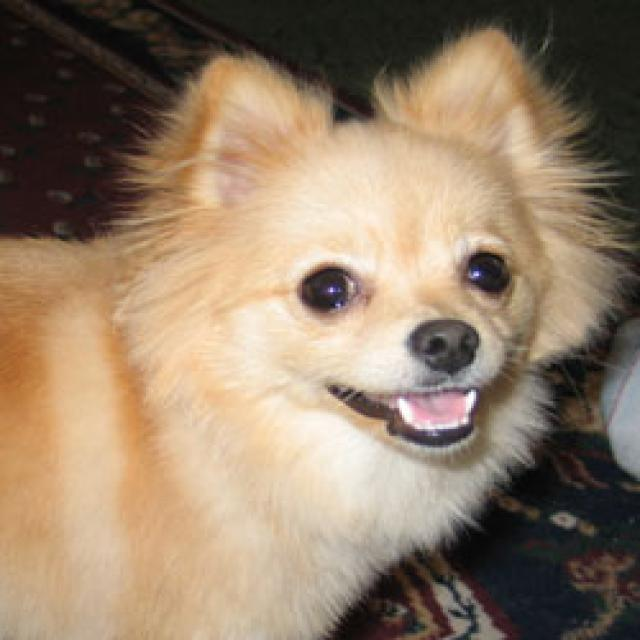dog-pomeranian: (3, 28, 602, 635)
